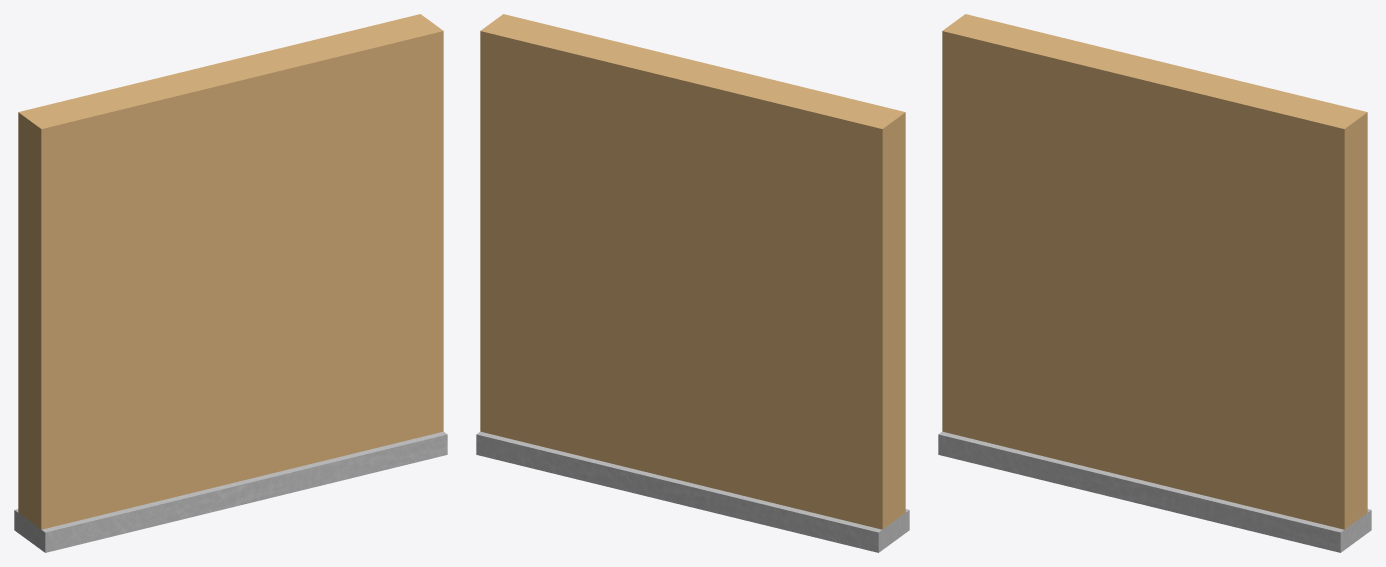
Rendered from Wall.fbx.
3 views of the same model, side by side, from view 1: azimuth 30°, elevation 25°; view 2: azimuth 150°, elevation 25°; view 3: azimuth 330°, elevation 25° (orthographic).
Visible parts, largest first — view 1: Wall; view 2: Wall; view 3: Wall.
Boxes of the visible parts, x1=… form: Wall: x1=14, y1=14, x2=447, y2=552; Wall: x1=476, y1=14, x2=909, y2=552; Wall: x1=938, y1=14, x2=1371, y2=552.
Bounding box in the file's own units: 6 × 6 × 0.8.
